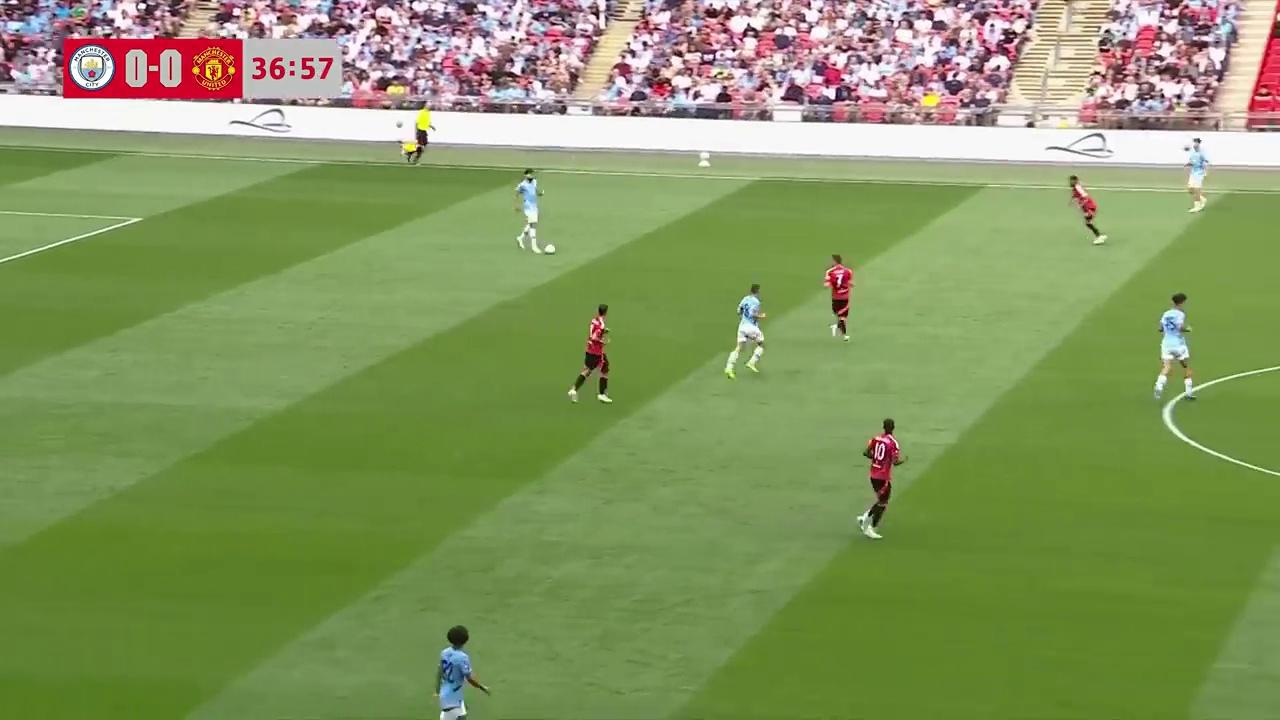ball: (543, 240, 557, 255)
player: (432, 625, 491, 720), (859, 419, 905, 539), (1152, 293, 1195, 401), (567, 304, 613, 404), (724, 284, 766, 379), (1068, 176, 1107, 245), (513, 169, 545, 252), (824, 254, 854, 341), (1185, 145, 1208, 212)
referee: (404, 109, 434, 166)
